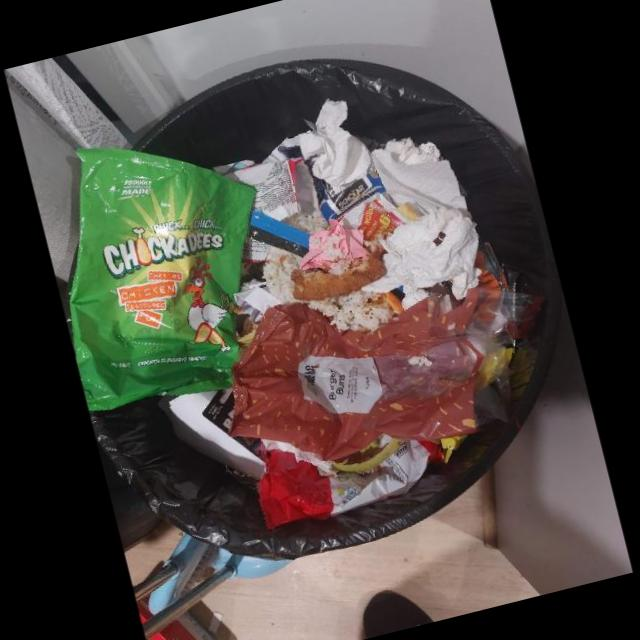bao_bi_thuc_pham: (71, 148, 256, 413), (256, 437, 469, 530), (335, 193, 409, 257), (221, 160, 298, 221)
giay: (362, 207, 480, 310), (265, 98, 369, 191), (373, 136, 468, 215), (300, 220, 372, 267)
thuc_an_thua: (262, 231, 403, 333)
tui_ni_long: (230, 281, 532, 458)
